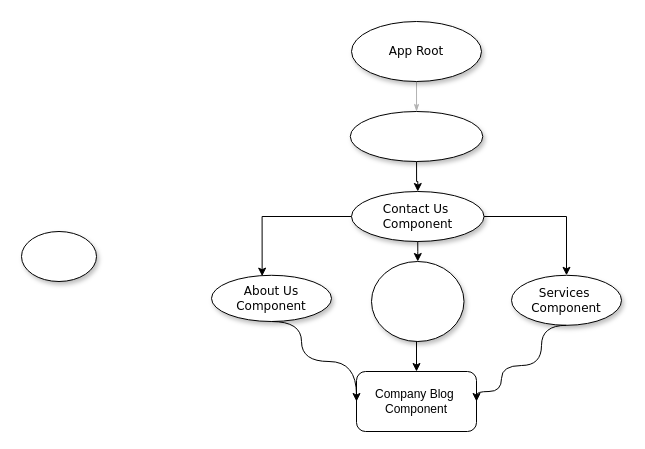
The diagram is 645 pixels wide and 449 high, and some of its shapes have lost their labels. The centre of each missing label's shape, as x and y in pixels:
"Header NavBar Component" goes at [417,137].
"Portfolio Library Component" goes at [418,302].
"Services.ts" goes at [59,257].
